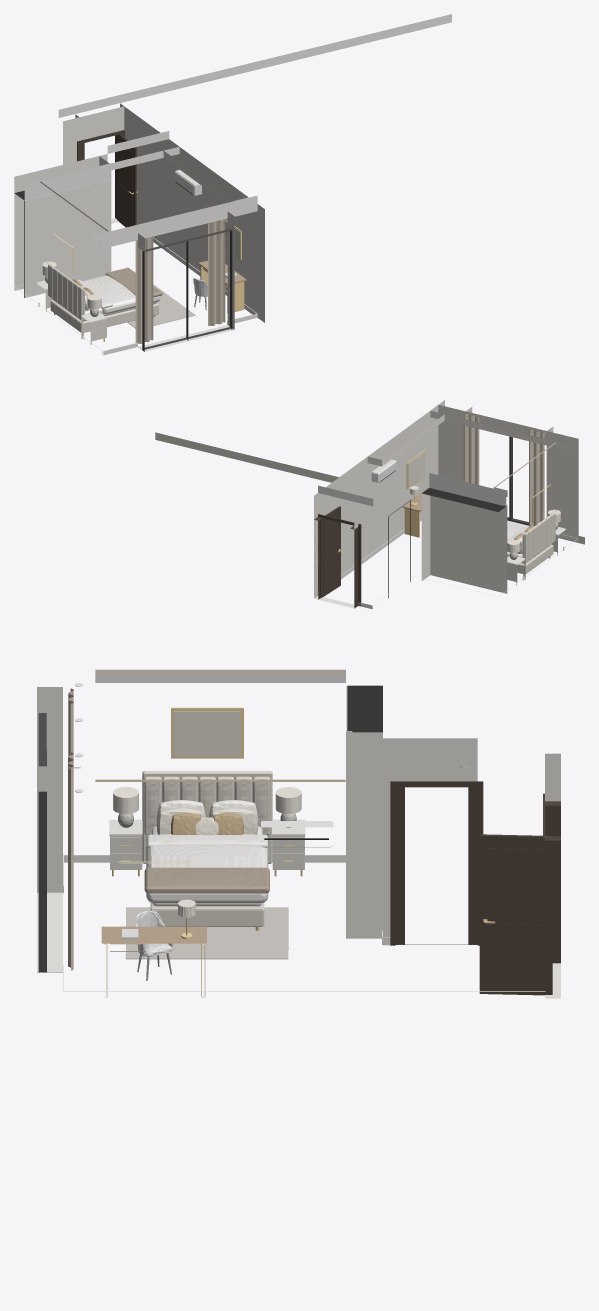
Rendered from ROOM2.glb.
3 views of the same model, one above another, from view 1: azimuth 30°, elevation 25°; view 2: azimuth 150°, elevation 25°; view 3: azimuth 270°, elevation 25° (orthographic). The views are drawn at different scales.
Parts seen in each view (by area): view 1: WEB_ROOM2; view 2: WEB_ROOM2; view 3: WEB_ROOM2.
Boxes of the visible parts, x1,y1,x2,y2 form: WEB_ROOM2: (14,14,451,355); WEB_ROOM2: (155,400,584,609); WEB_ROOM2: (37,669,560,998).
Size of the model in its own units: 12.5 by 3.2 by 6.46.
